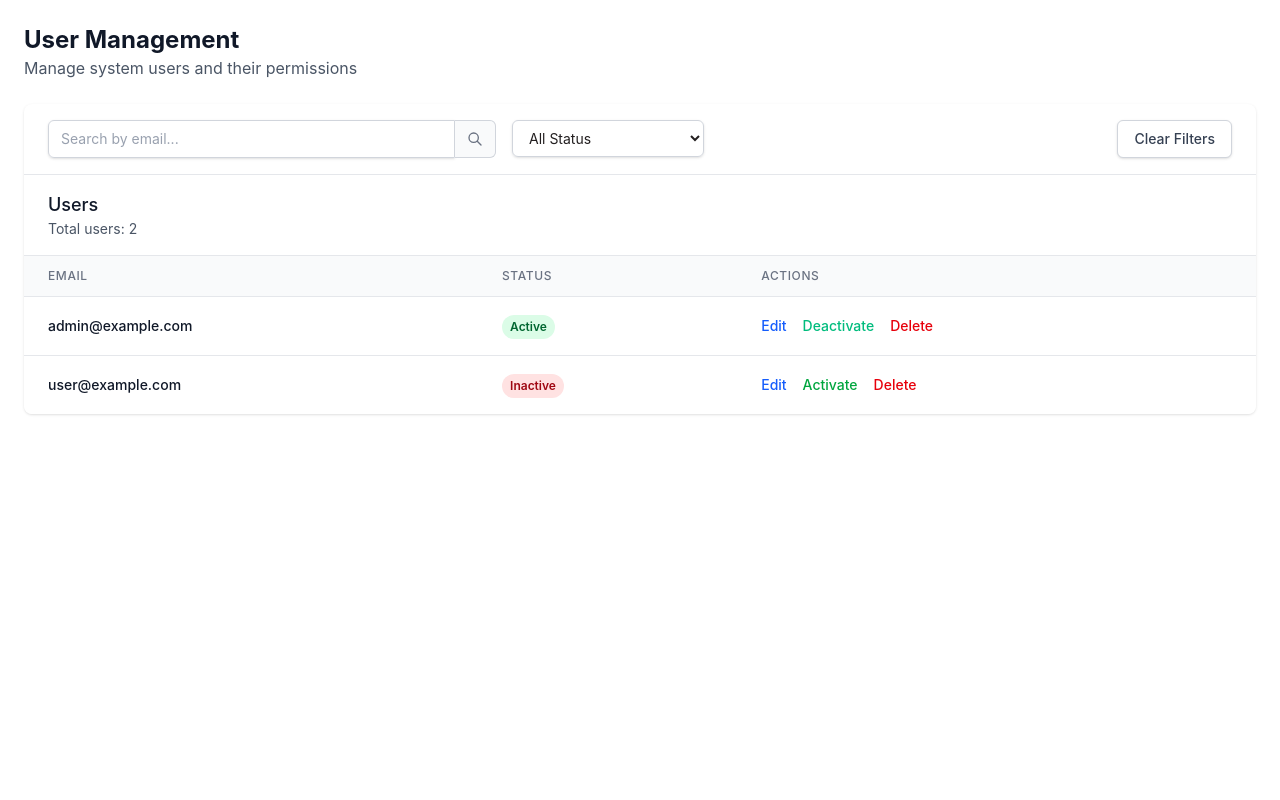
Test: UserManagement › should show deactivate confirmation dialog when deactivate button is clicked
Expected: the text "admin@example.com" is shown, [24, 296, 478, 356]
Click the button "Deactivate" at [838, 326], box [803, 316, 874, 336]
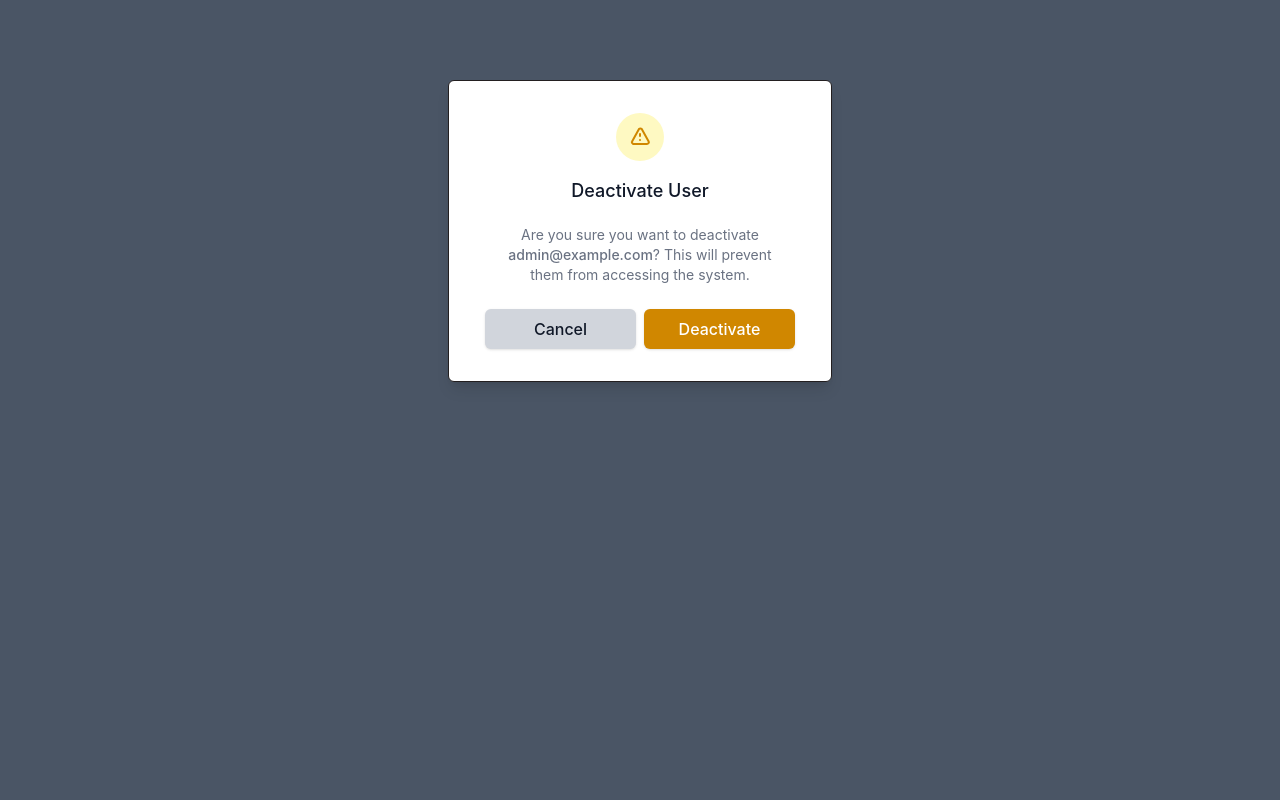
Expected: the number of buttons "Deactivate" is 2, [803, 316, 874, 336]; [644, 309, 795, 349]
Now the heading "Deactivate User" is shown, box [571, 180, 709, 201]
Now the button "Cancel" is shown, box [485, 309, 636, 349]
